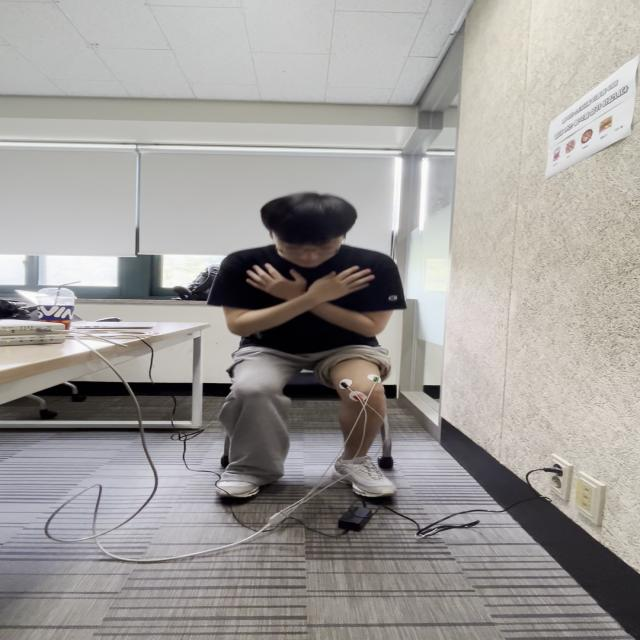stand: (221, 252, 402, 436), (309, 343, 409, 501), (237, 326, 370, 434), (213, 338, 300, 502)
